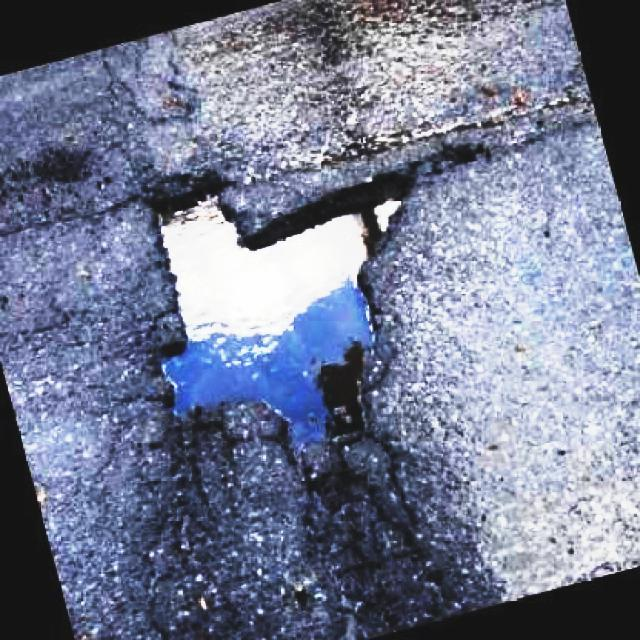pothole: (138, 152, 437, 454)
